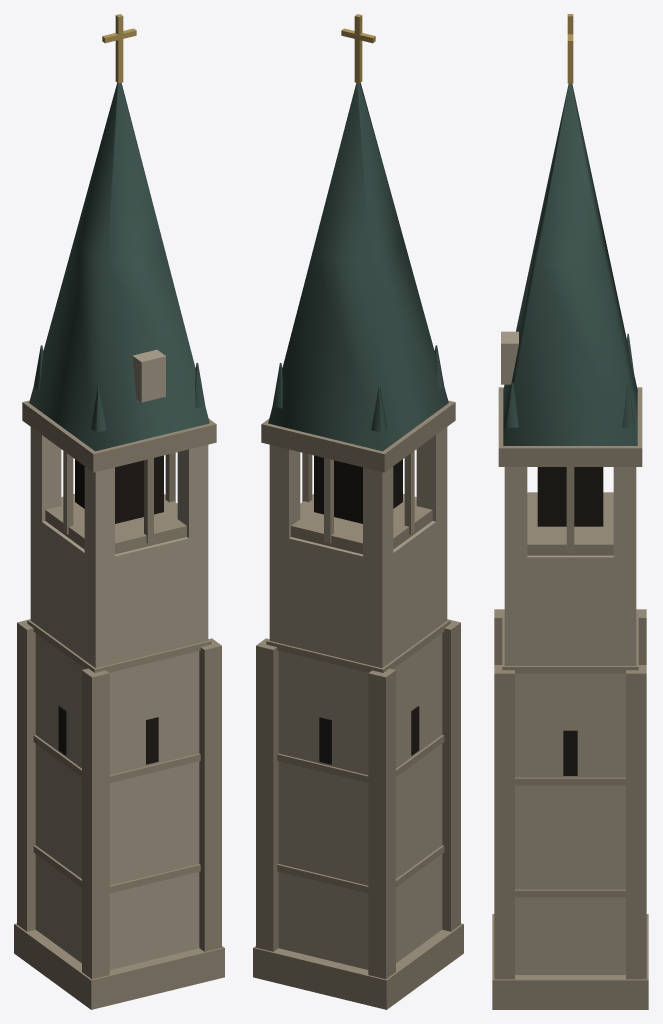
The model's file is steeple-tower-lod0.glb.
3 renders of one model, left to right at view 1: azimuth 30°, elevation 25°; view 2: azimuth 150°, elevation 25°; view 3: azimuth 270°, elevation 25°, orthographic.
Visible parts, largest first — view 1: shaft, spire, cross; view 2: shaft, spire, cross; view 3: shaft, spire, cross.
Part boxes in pixels (<box>): shaft: <box>14,400,224,1009</box>; spire: <box>29,83,209,451</box>; cross: <box>102,14,136,83</box>; shaft: <box>253,400,463,1009</box>; spire: <box>268,83,448,451</box>; cross: <box>341,14,375,83</box>; shaft: <box>492,387,648,1009</box>; spire: <box>501,83,637,445</box>; cross: <box>567,14,573,83</box>.
Size of the model in its own units: 3.8 by 25.8 by 3.8.
